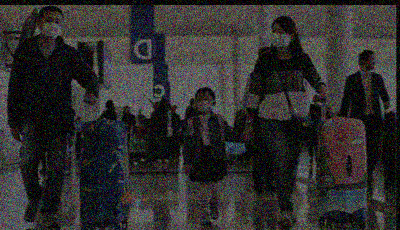with_mask: (39, 14, 61, 40), (270, 25, 289, 48), (195, 93, 211, 112)
without_mask: (366, 55, 376, 68)
